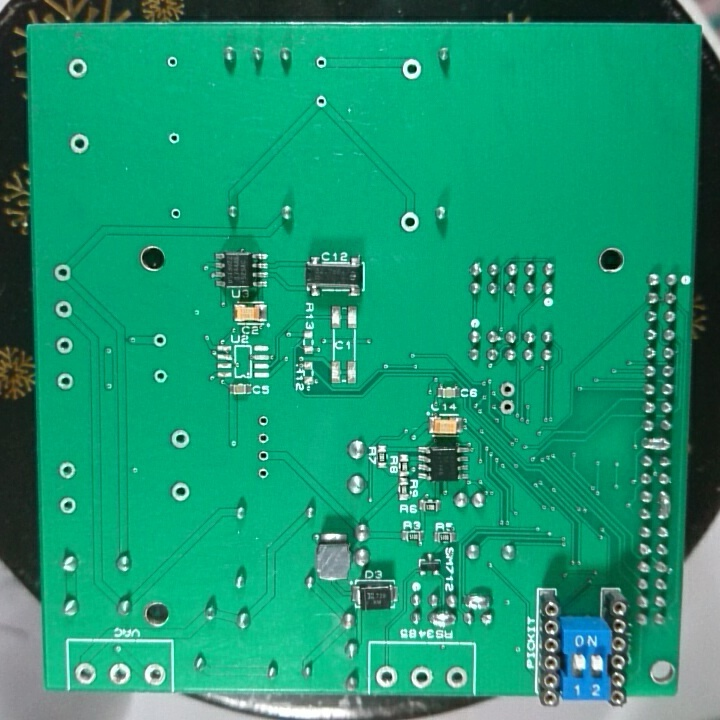F: (71, 660, 97, 687), (141, 661, 167, 687), (374, 663, 399, 690), (108, 661, 133, 688), (68, 129, 91, 158), (65, 55, 91, 80), (168, 478, 194, 503), (445, 663, 469, 690), (398, 209, 422, 235), (399, 57, 425, 81), (167, 426, 192, 450), (53, 334, 78, 356), (408, 666, 431, 689), (51, 260, 72, 285), (57, 459, 78, 483), (52, 298, 75, 319), (55, 372, 77, 393), (57, 495, 77, 518), (497, 378, 517, 399), (496, 397, 517, 417), (151, 366, 171, 386), (311, 53, 331, 72), (163, 53, 181, 72), (151, 332, 169, 350), (255, 465, 272, 484), (313, 92, 330, 111), (255, 412, 272, 429), (166, 128, 182, 146), (168, 204, 183, 223), (256, 448, 271, 466), (256, 430, 271, 447)
P: (427, 609, 459, 632), (462, 592, 492, 611), (640, 435, 673, 452), (658, 489, 673, 522)
